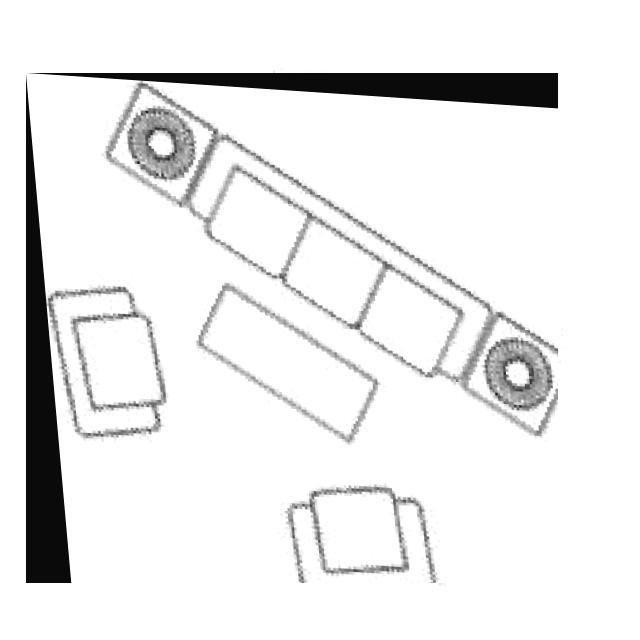sofa: (26, 73, 558, 583)
